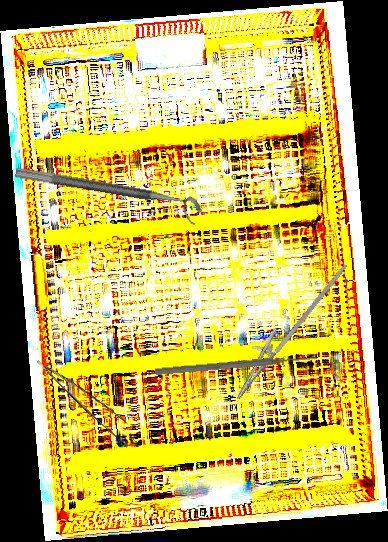Fixation Ring: (12, 165, 204, 227)
Needle Holder: (224, 245, 349, 412)
Pusher: (154, 352, 318, 378)
Tissue Forceps: (36, 346, 131, 442)
